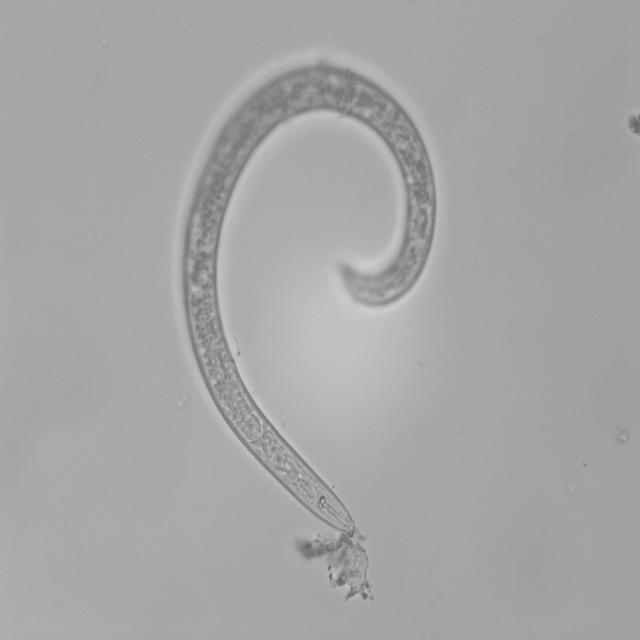Helicotylenchus: (156, 49, 438, 544)
